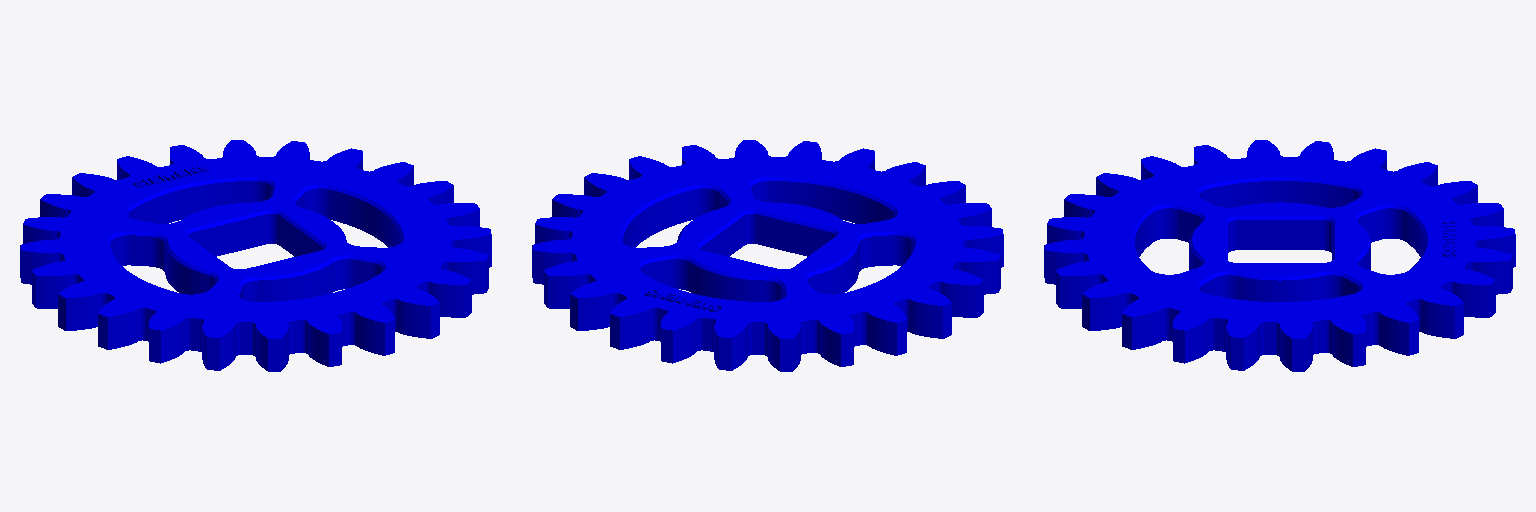
The robot description file, URDF, robot "gear2":
<?xml version="1.0"?>
<robot name="gear2">
    <link name="gear2">
        <visual>
            <origin xyz="0 0 0 " rpy=" 0 0 0"/>
            <geometry>
                <mesh filename="gearbox_meshes/gear2_precise.stl"/>
            </geometry>
            <material name="red">
                <color rgba="0.0 0.0 1.0 1.0"/>
            </material>
        </visual>
        <collision>
            <origin xyz="0 0 0" rpy="0 0 0"/>
            <geometry>
                <mesh filename="gearbox_meshes/gear2_precise.stl"/>
            </geometry>
            <sdf resolution="256"/>
        </collision>
    </link>
</robot>

--- Facts derived from the render (not from the file) ---
3 views of the same robot in one strip: view 1: azimuth 30°, elevation 25°; view 2: azimuth 150°, elevation 25°; view 3: azimuth 270°, elevation 25° (orthographic).
Robot: gear2 — 1 links, 0 joints (none); root link gear2; default pose: all joints at 0.
Links seen in each view (by area): view 1: gear2; view 2: gear2; view 3: gear2.
Boxes of the visible links, bbox=[...] form: gear2: bbox=[20, 140, 491, 371]; gear2: bbox=[532, 140, 1003, 371]; gear2: bbox=[1044, 140, 1515, 371].
Size in the robot's own frame: 0.1947 by 0.1947 by 0.0162 metres.
1 mesh visuals loaded from 1 distinct referenced files (1 binary STL).
